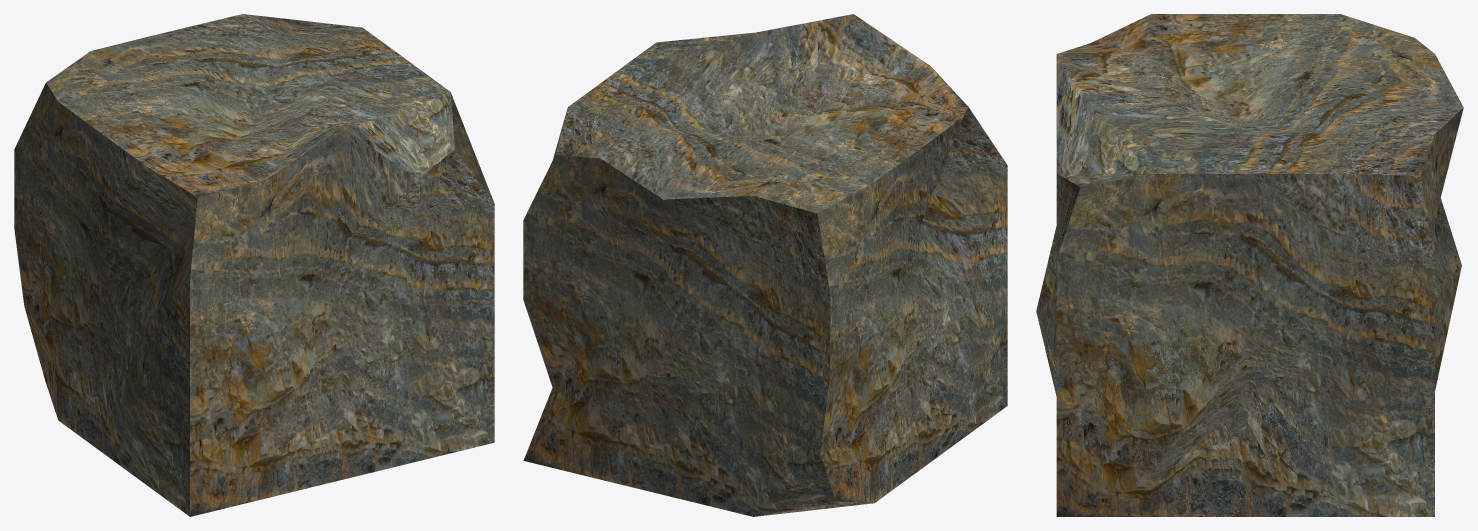
File: iwa.fbx
3 renders of one model, left to right at view 1: azimuth 30°, elevation 25°; view 2: azimuth 150°, elevation 25°; view 3: azimuth 270°, elevation 25°, orthographic. The views are drawn at different scales.
Parts seen in each view (by area): view 1: Box001; view 2: Box001; view 3: Box001.
Boxes of the visible parts, x1,y1,x2,y2 form: Box001: [14, 14, 494, 516]; Box001: [523, 14, 1007, 516]; Box001: [1036, 14, 1463, 516].
Size of the model in its own units: 67.86 by 67.77 by 66.29.
Materials: 1 (1 with a texture image).
